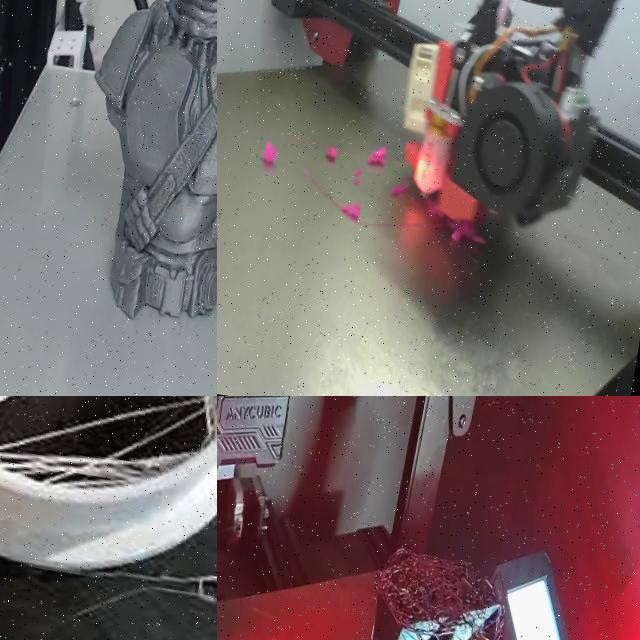spaghetti: (0, 396, 217, 533), (351, 525, 528, 640), (97, 554, 217, 628), (304, 169, 415, 227), (446, 218, 485, 244), (426, 198, 447, 218), (261, 142, 278, 166), (368, 147, 386, 165), (392, 184, 408, 196), (327, 147, 338, 162), (355, 170, 361, 183)
